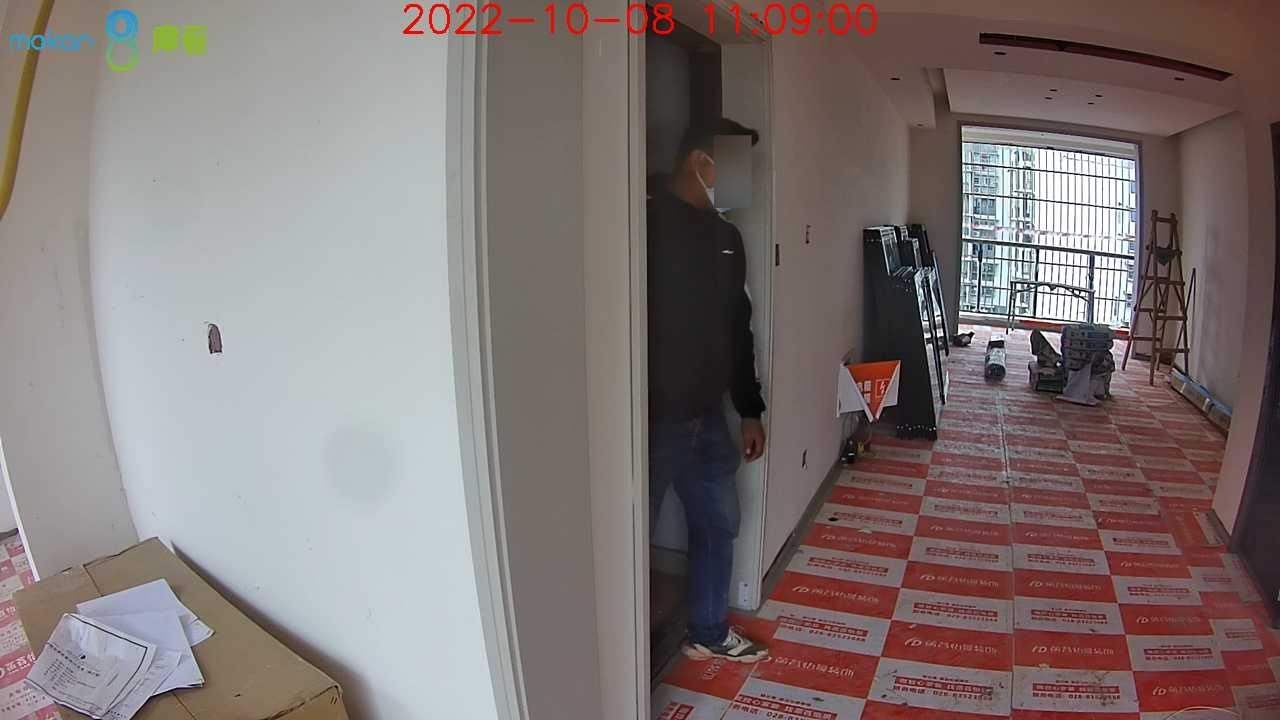people: (647, 115, 768, 665)
window: (956, 124, 1137, 332)
